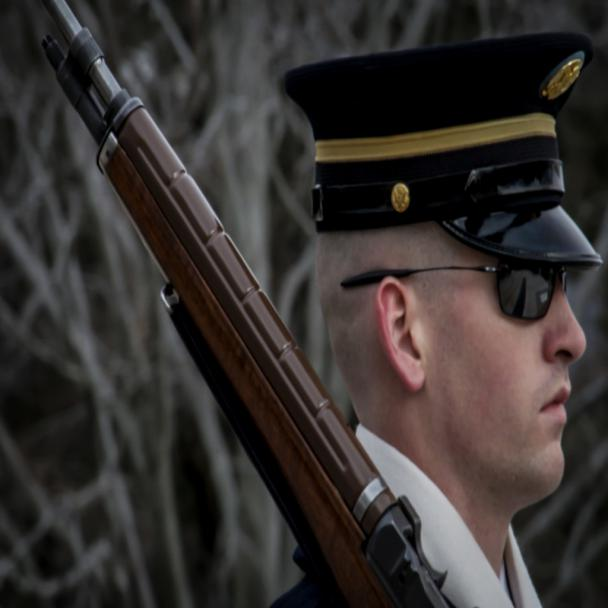Gun: (40, 0, 449, 607)
